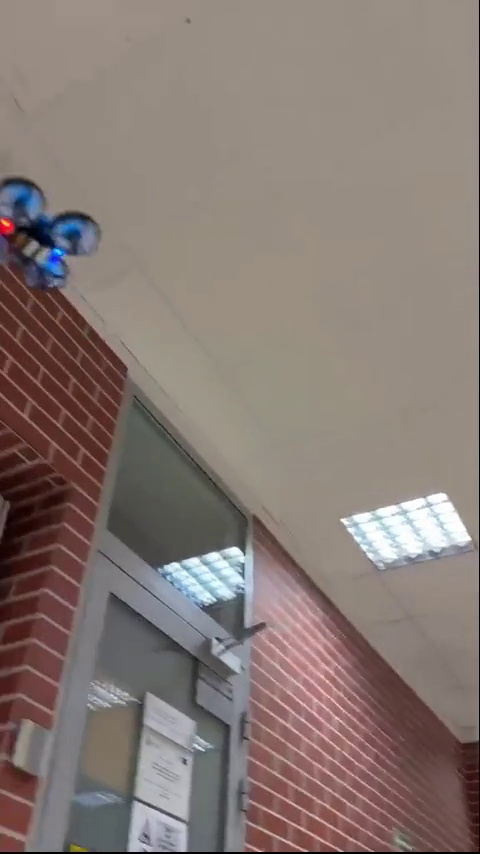drone: (0, 183, 99, 297)
